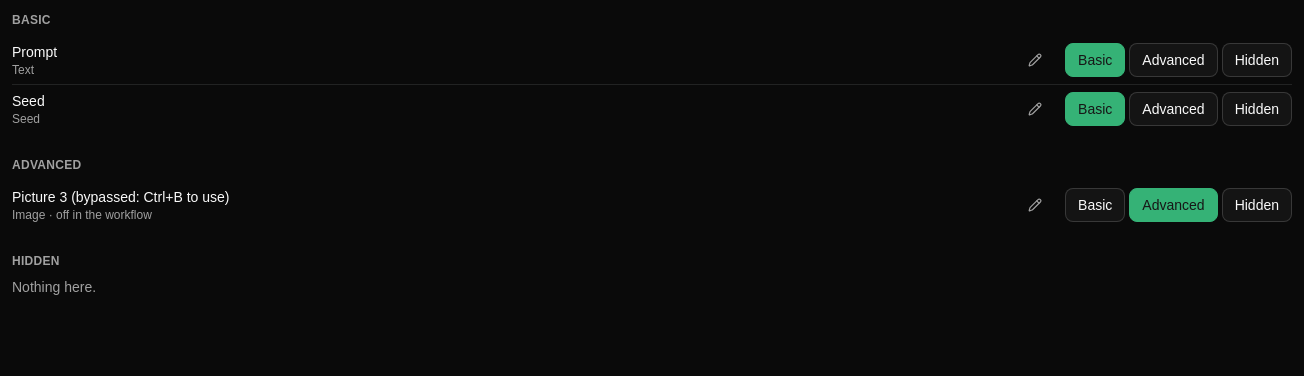
Test: WorkflowMapping › saves a display name and note typed for a slot
Click the button named "Edit Seed".
click(1035, 109)  # box [1021,95,1049,123]
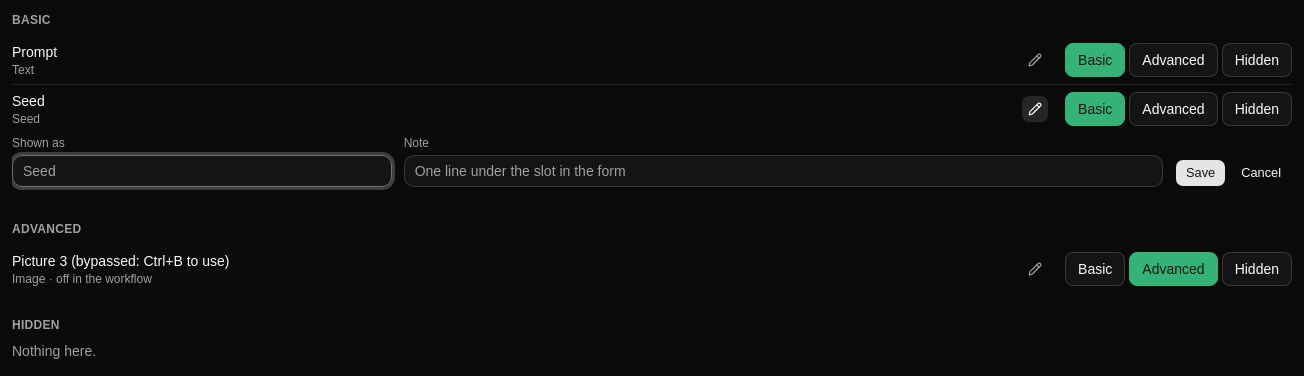
Type "Noise seed" into the field labelled "Shown as".
click(202, 171); type("Noise seed")  # box [12,155,392,187]
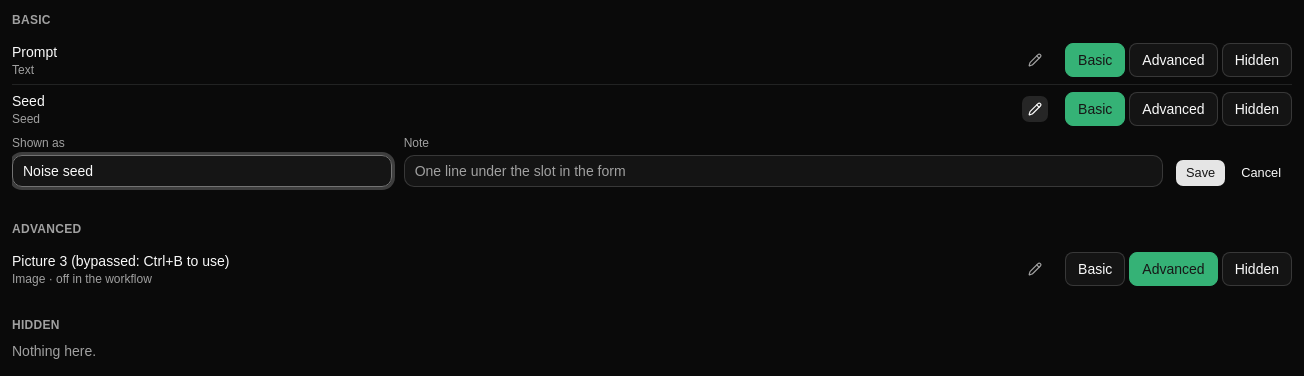
Type "Keep it fixed." into the field labelled "Note".
click(783, 171); type("Keep it fixed.")  # box [404,155,1163,187]
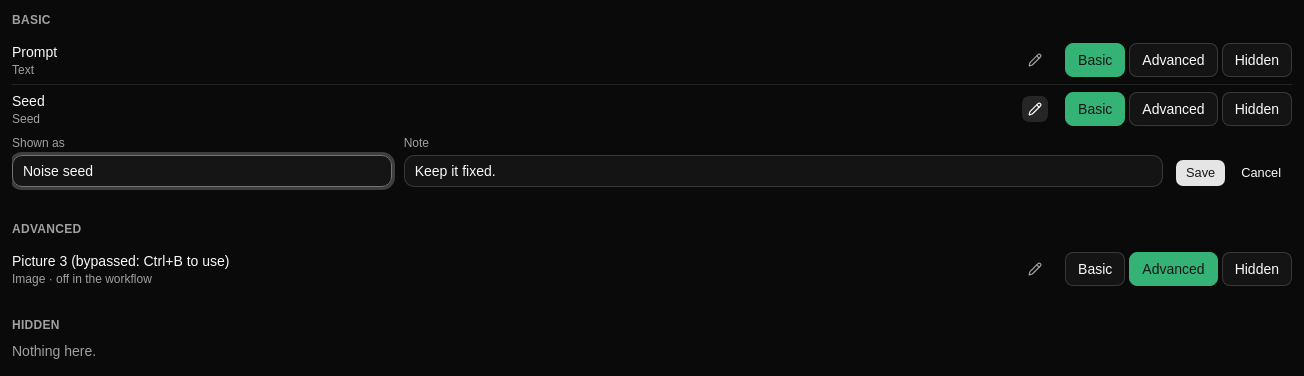
Click the button "Save".
click(1201, 173)  # box [1175,159,1226,187]
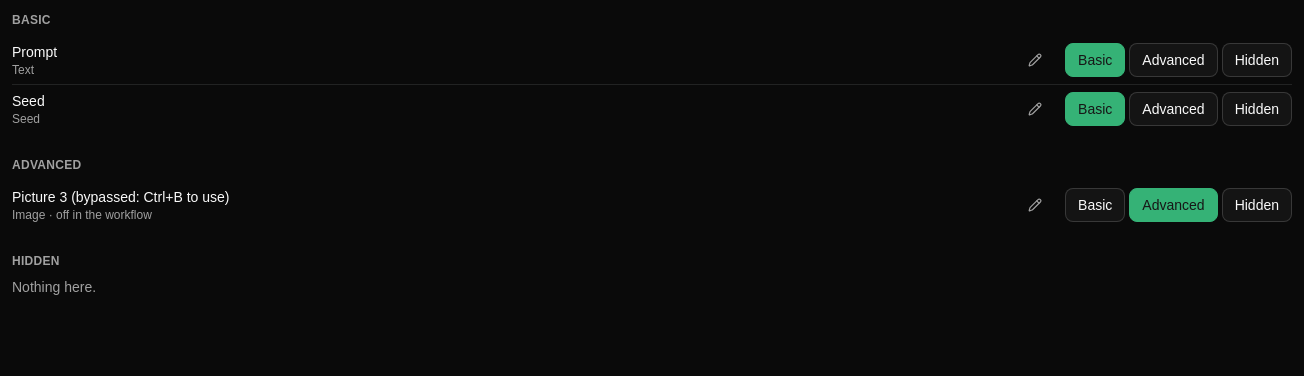
Now the field labelled "Label for Seed" is gone
